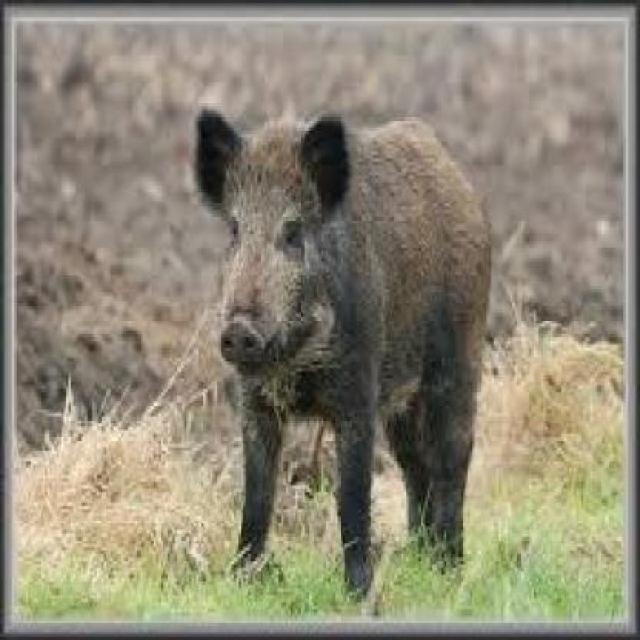wildboar: (192, 96, 498, 622)
